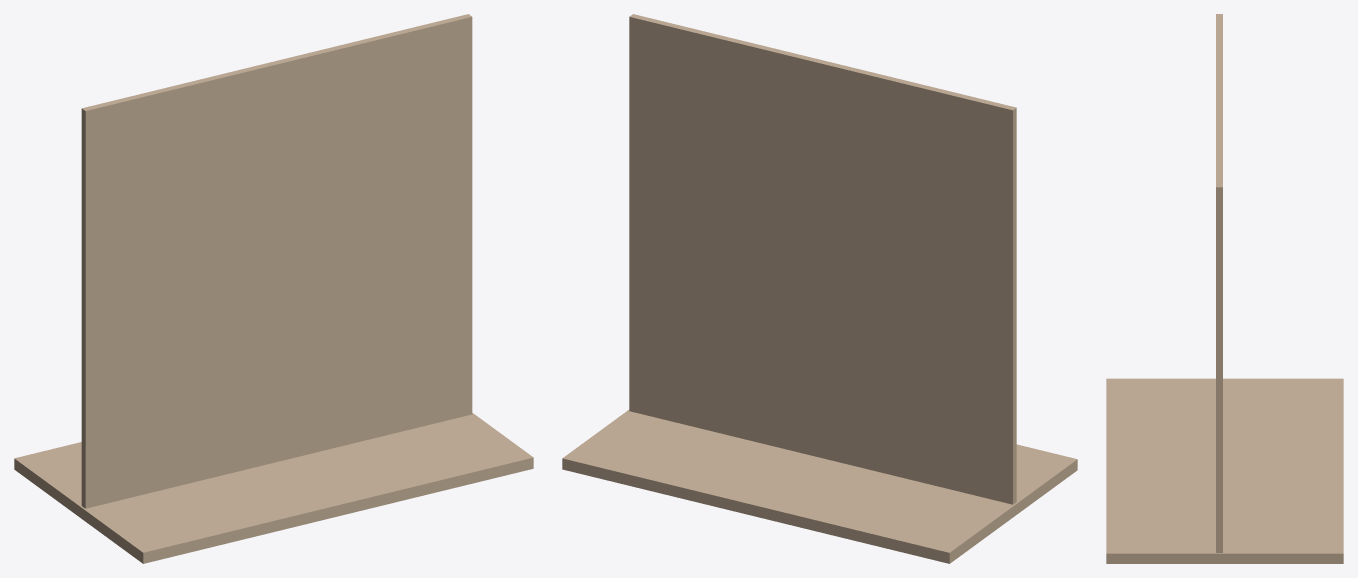
Rendered from caballete.glb.
The picture shows the model from 3 angles, left to right: view 1: azimuth 30°, elevation 25°; view 2: azimuth 150°, elevation 25°; view 3: azimuth 270°, elevation 25°; orthographic projection. The views are drawn at different scales.
Visible parts, largest first — view 1: Cubo.001, Cubo; view 2: Cubo.001, Cubo; view 3: Cubo, Cubo.001.
Boxes of the visible parts, x1=… form: Cubo.001: x1=81, y1=14, x2=472, y2=508; Cubo: x1=14, y1=413, x2=533, y2=563; Cubo.001: x1=629, y1=14, x2=1016, y2=504; Cubo: x1=562, y1=410, x2=1077, y2=563; Cubo: x1=1106, y1=378, x2=1343, y2=563; Cubo.001: x1=1216, y1=14, x2=1222, y2=552.
Bounding box in the file's own units: 4.43 × 4.44 × 2.54.
